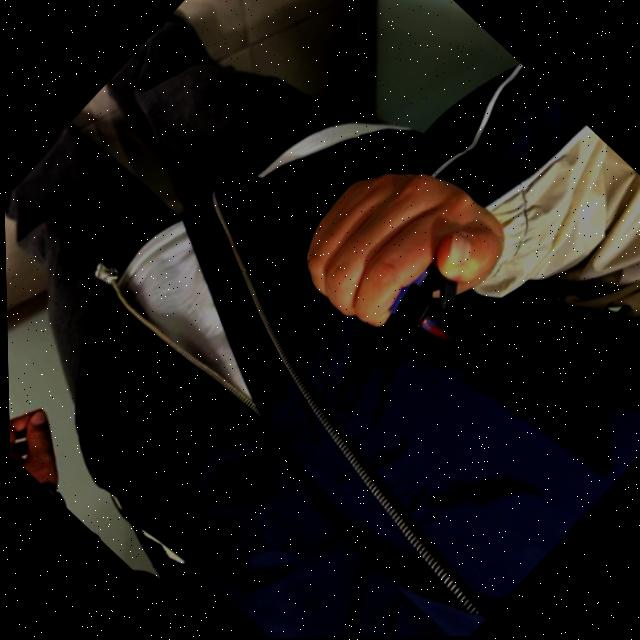Fire: (412, 310, 458, 355)
